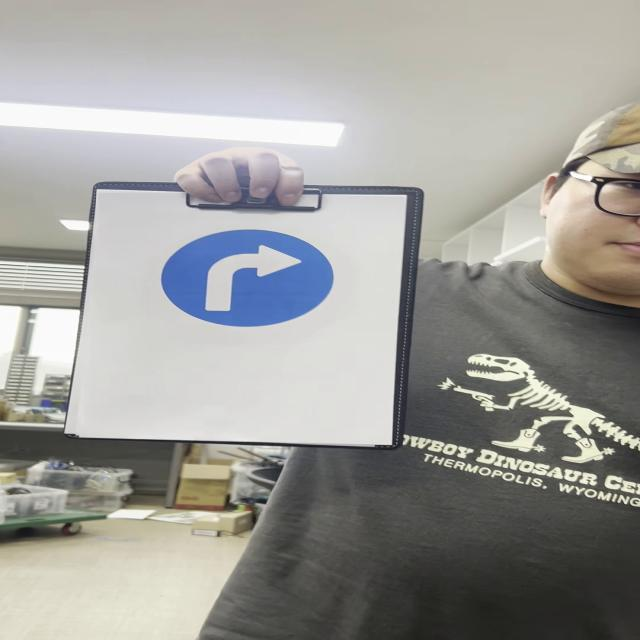right: (157, 230, 337, 329)
